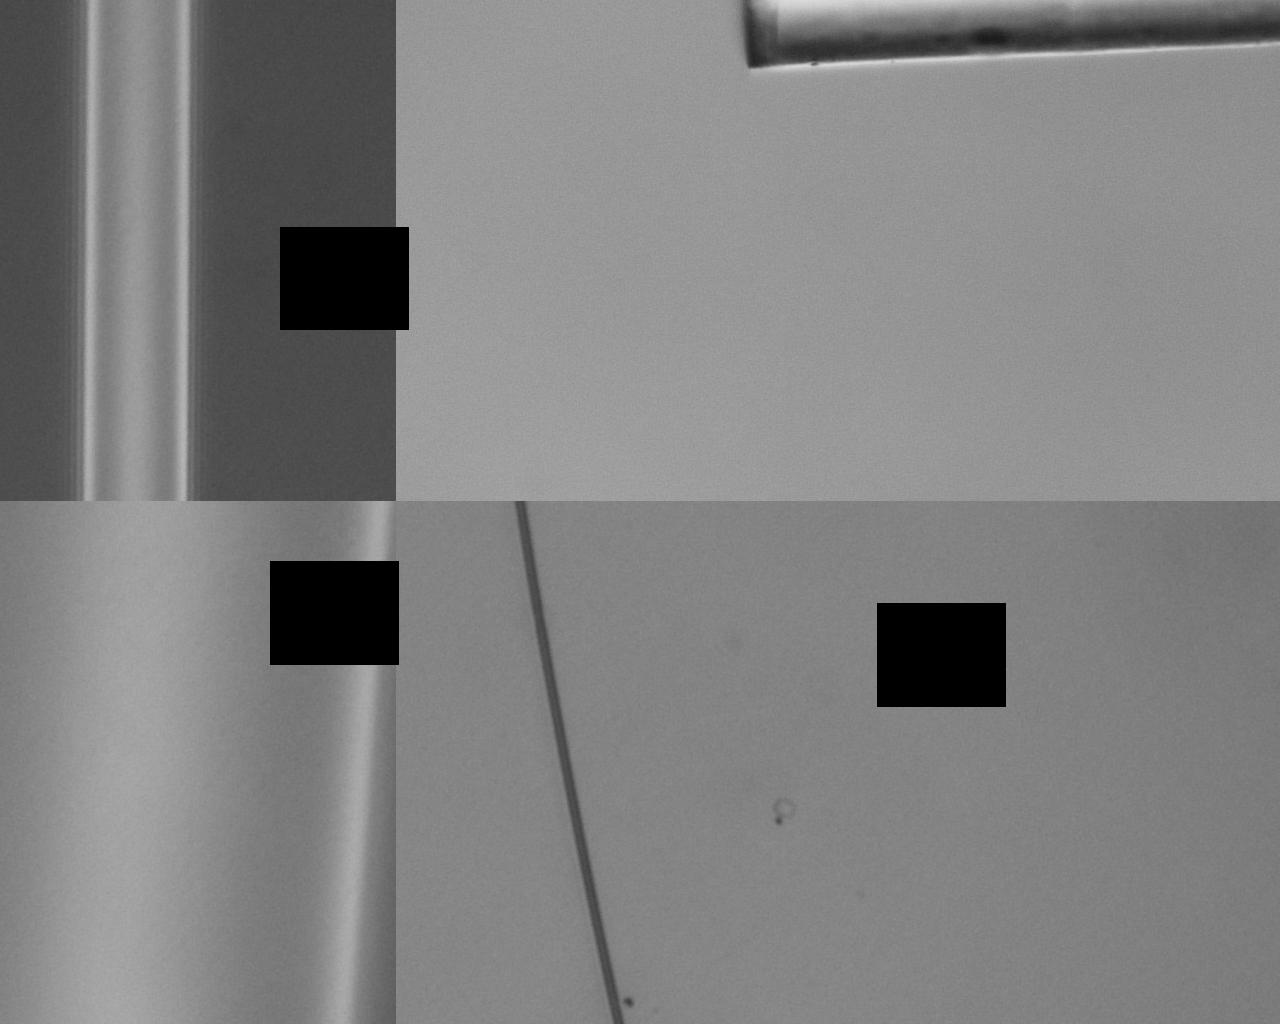fiber: (178, 368, 451, 1024), (473, 21, 1114, 209), (120, 124, 473, 368), (901, 368, 941, 1024)
